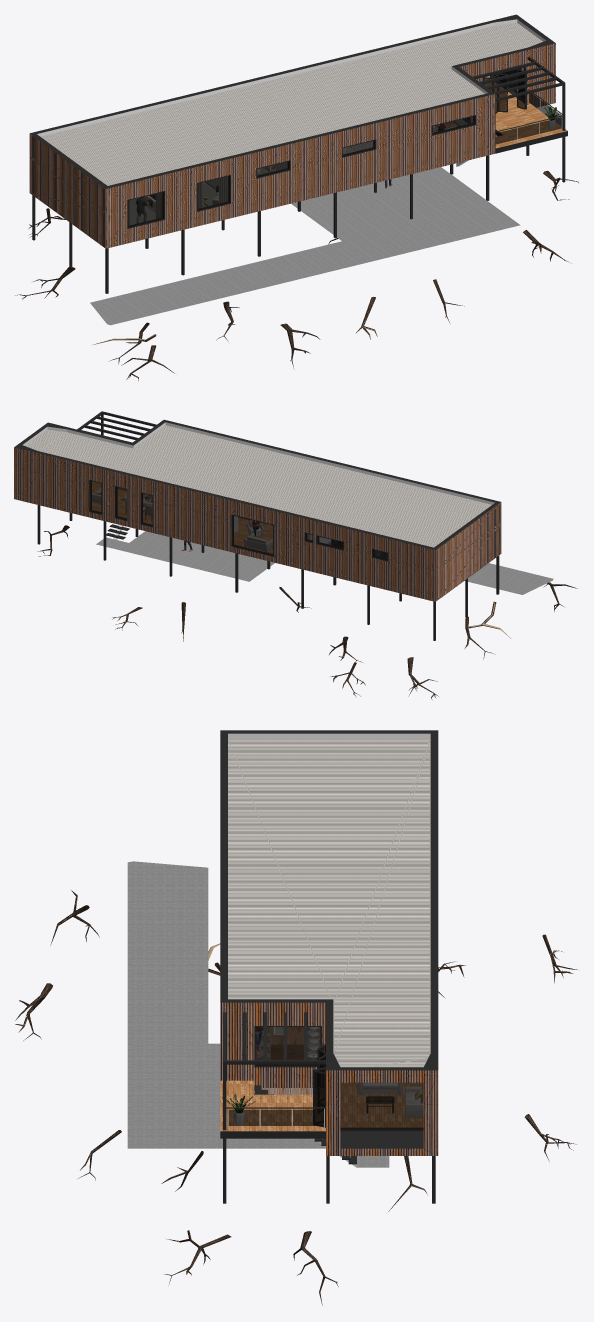
Rendered from modular_house_cube_3_by_swanbuild_australia.glb.
The picture shows the model from 3 angles, top to bottom: view 1: azimuth 30°, elevation 25°; view 2: azimuth 150°, elevation 25°; view 3: azimuth 270°, elevation 25°; orthographic projection. The views are drawn at different scales.
Parts seen in each view (by area): view 1: FF, GF; view 2: FF, GF; view 3: FF, GF.
Part boxes in pixels (left/top/right/bottom): FF: left=29, top=14, right=565, bottom=225; GF: left=15, top=67, right=578, bottom=380; FF: left=14, top=411, right=501, bottom=570; GF: left=14, top=426, right=577, bottom=700; FF: left=220, top=730, right=438, bottom=1104; GF: left=15, top=861, right=577, bottom=1305.
Size of what is drawn, in the model's own units: 0.2611 by 0.0958 by 0.1658.
54 materials, 35 textured.
